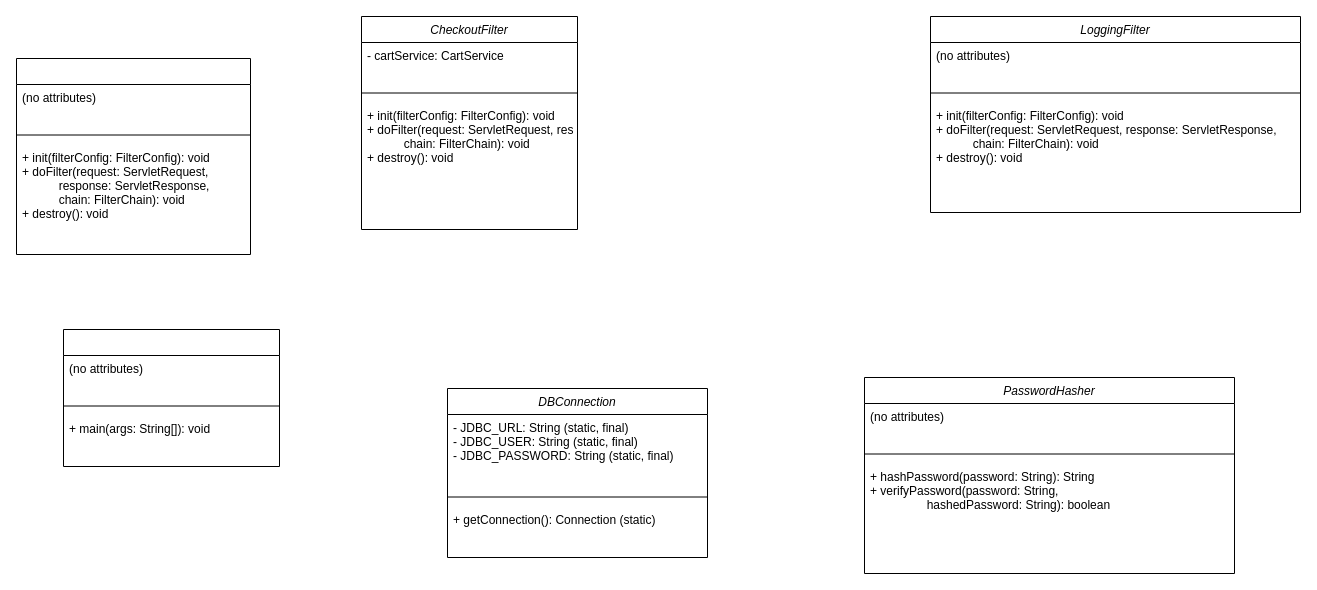
The diagram is 1317 pixels wide and 590 high, and some of its shapes have lost their labels. Here are the shapes that lost their labels. From the top down, the box of each, then its label:
(16, 58, 250, 254): AuthenticationFilter
(62, 328, 280, 466): CheckCategories
